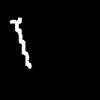half_double_crochet: (10, 18, 30, 67)
